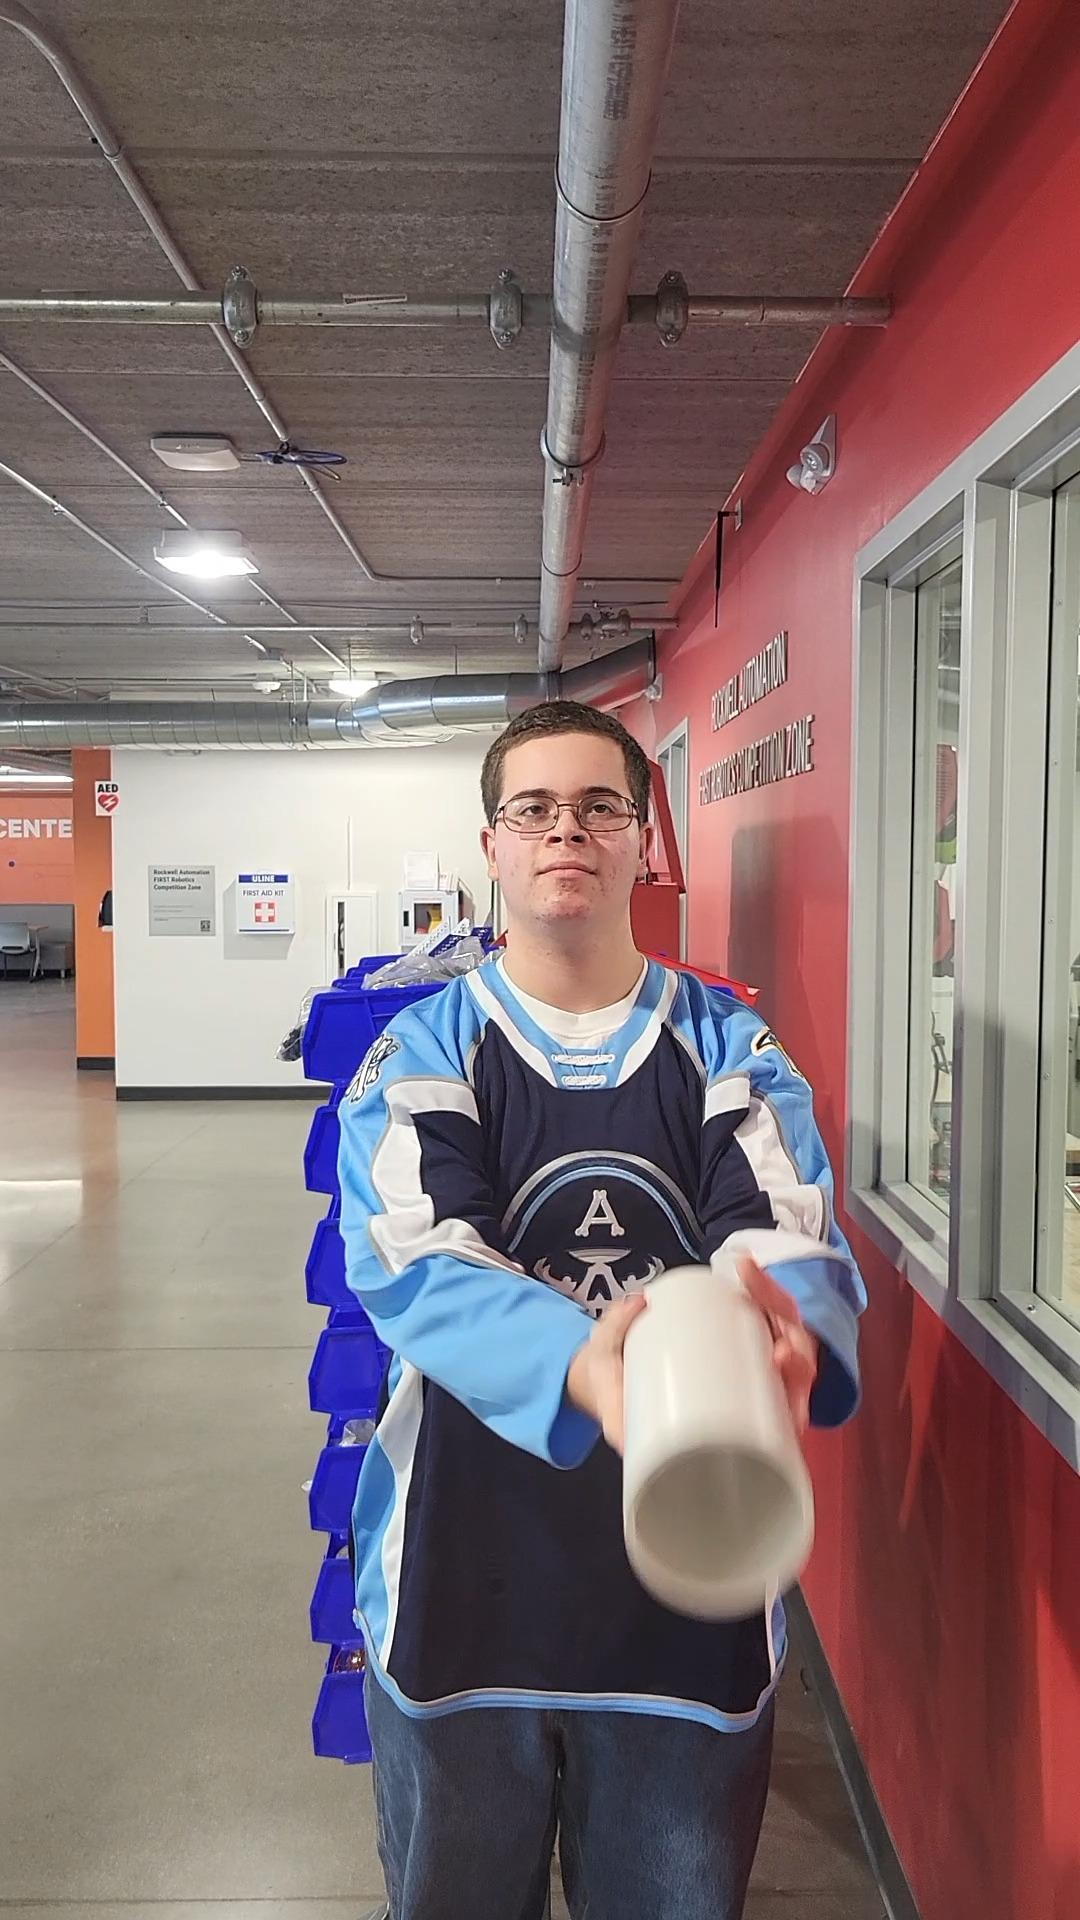coral: (611, 1258, 816, 1630)
